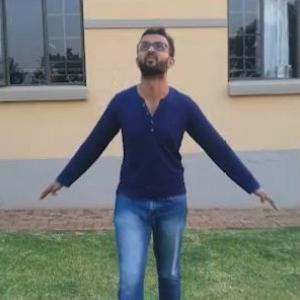land: (39, 21, 286, 296)
